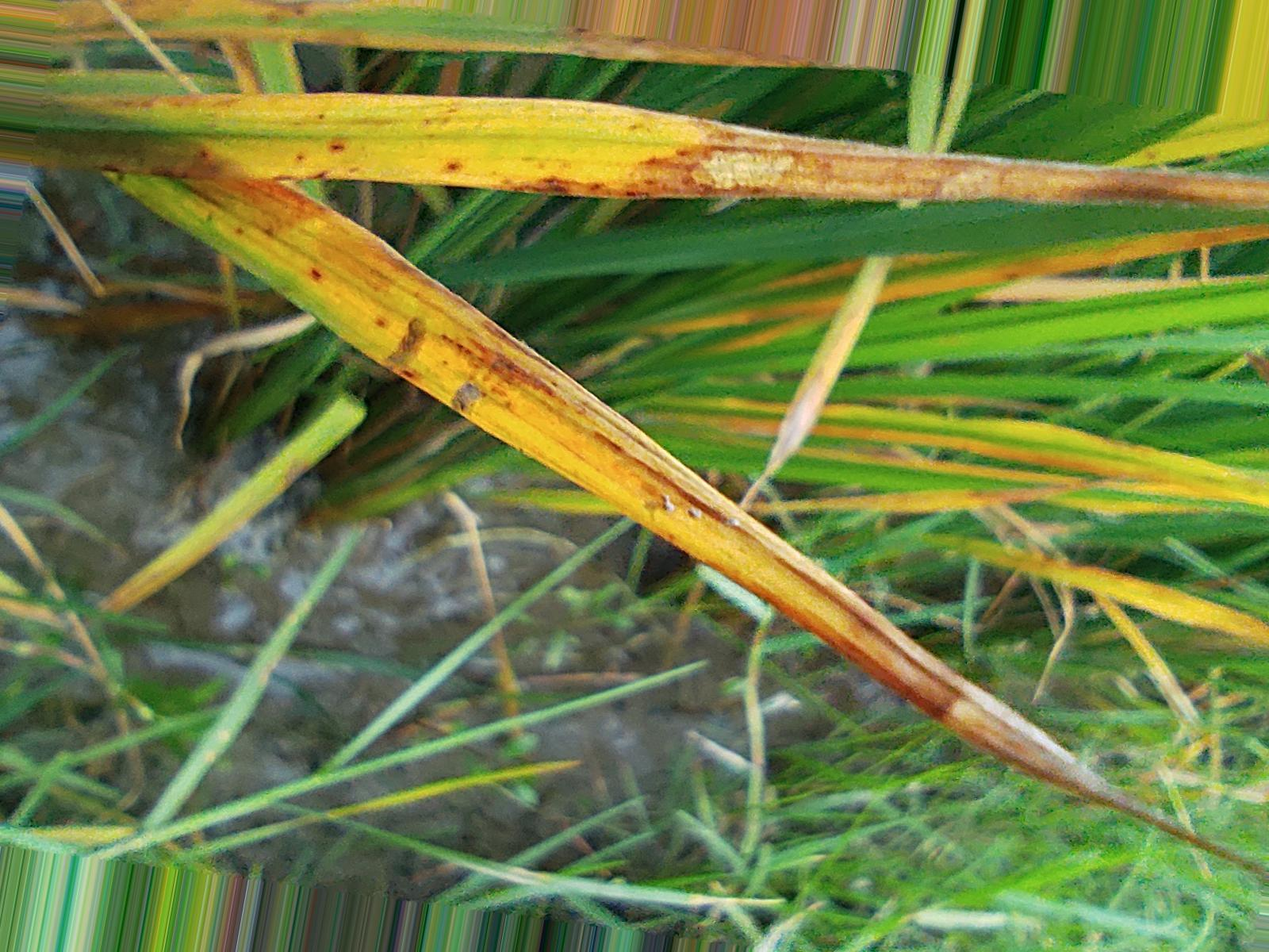LEAF: (107, 170, 1268, 878)
NBS: (483, 322, 560, 375), (595, 434, 622, 452), (402, 370, 415, 377)
